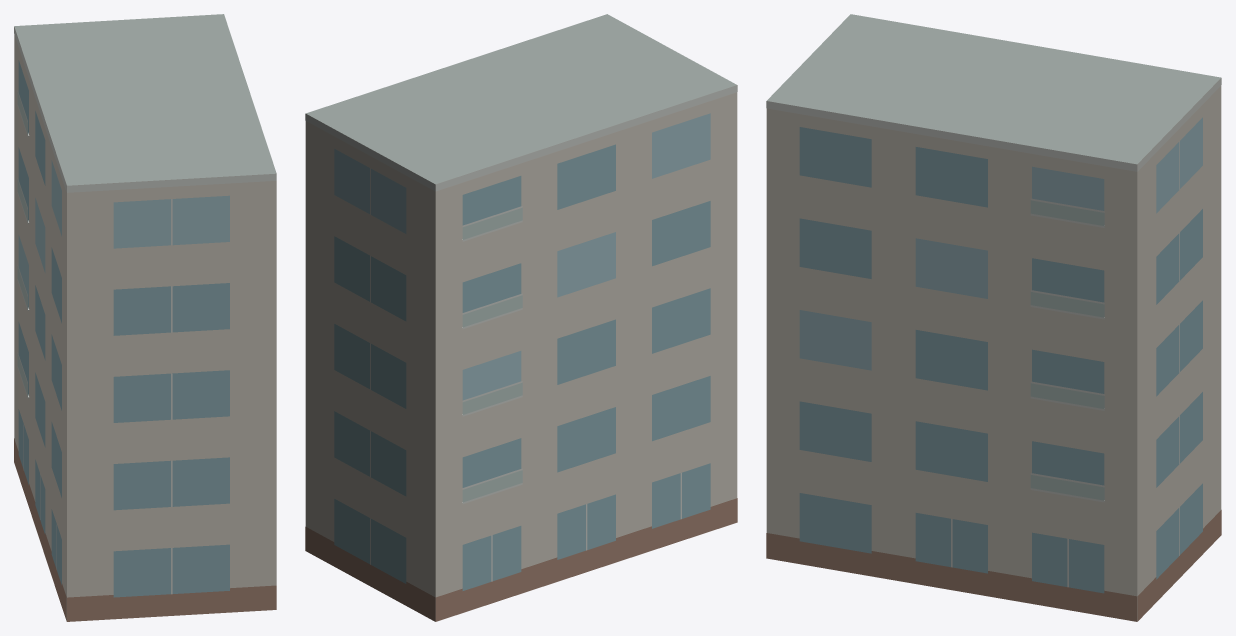
Rendered from survey-upis-32755159.glb.
The picture shows the model from 3 angles, left to right: view 1: azimuth 30°, elevation 25°; view 2: azimuth 150°, elevation 25°; view 3: azimuth 270°, elevation 25°; orthographic projection. The views are drawn at different scales.
Visible parts, largest first — view 1: survey-upis-32755159.tmp; view 2: survey-upis-32755159.tmp; view 3: survey-upis-32755159.tmp.
Boxes of the visible parts, <box> form: survey-upis-32755159.tmp: <box>14,14,276,621</box>; survey-upis-32755159.tmp: <box>305,14,737,621</box>; survey-upis-32755159.tmp: <box>766,14,1221,621</box>.
Bounding box in the file's own units: 10.52 × 14.9 × 13.44.
